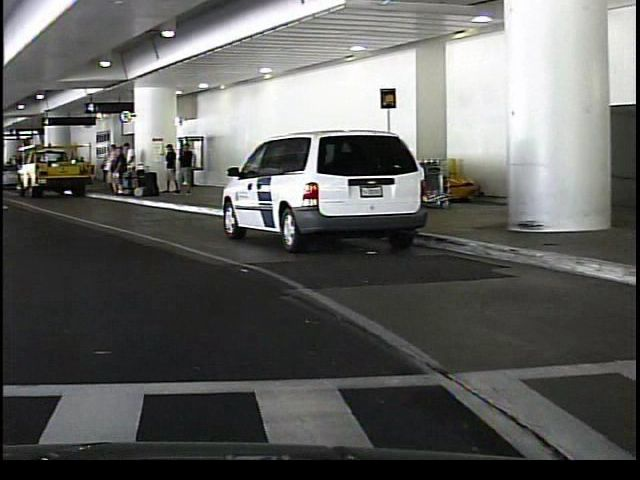person: (175, 139, 193, 196), (100, 141, 115, 196)
